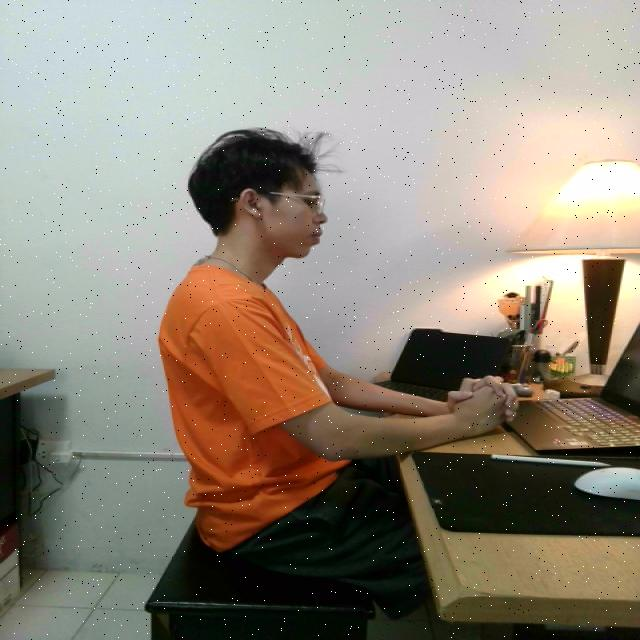Good: (151, 123, 475, 580)
